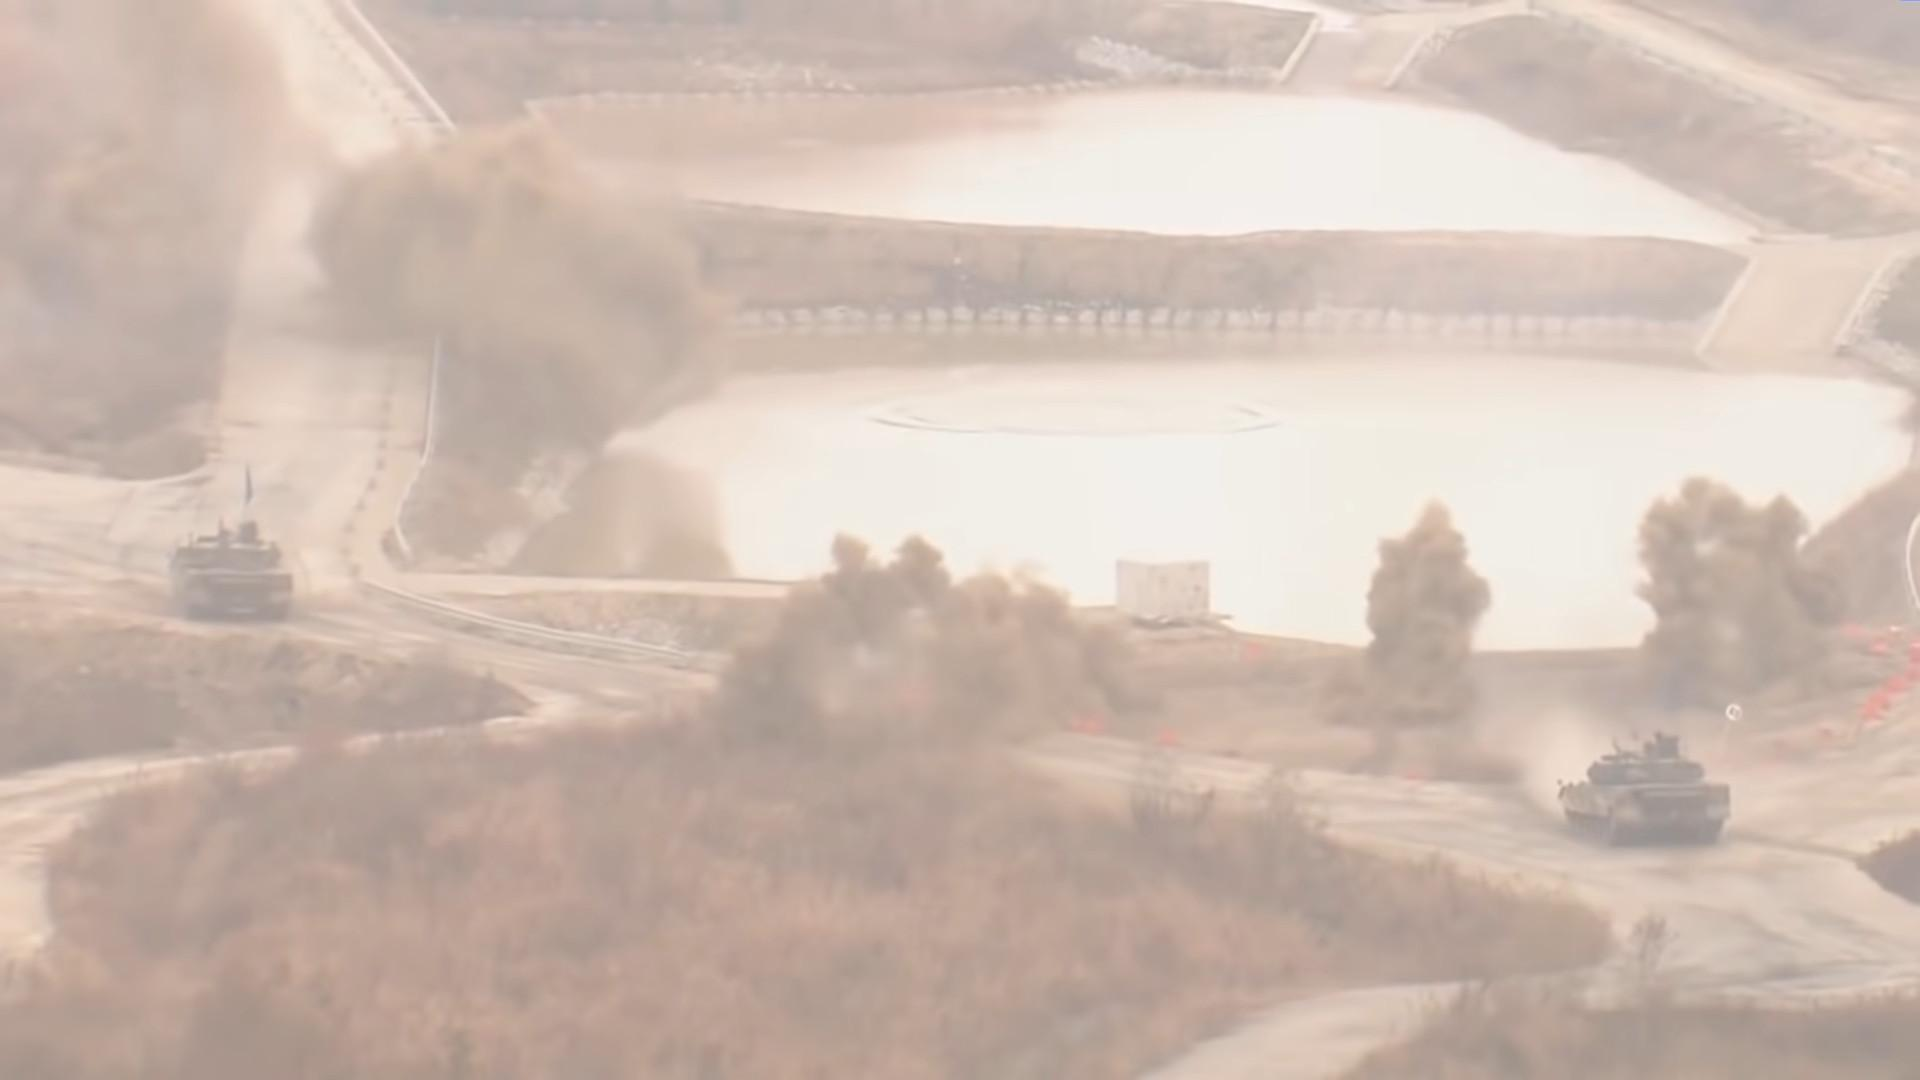tank: (1557, 731, 1733, 843), (169, 517, 291, 615)
